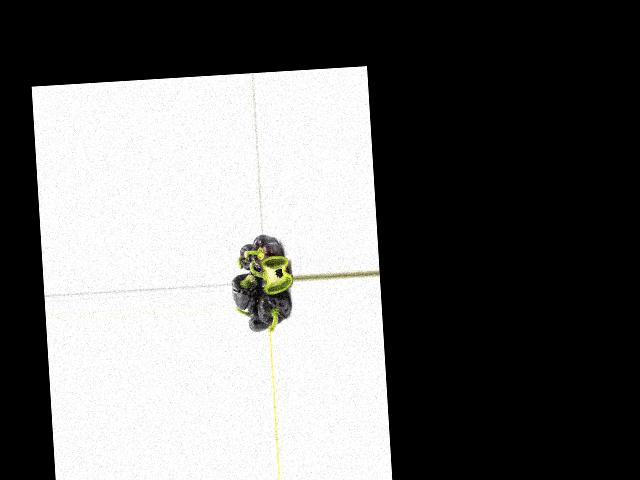bell_pepper: (250, 234, 282, 275)
